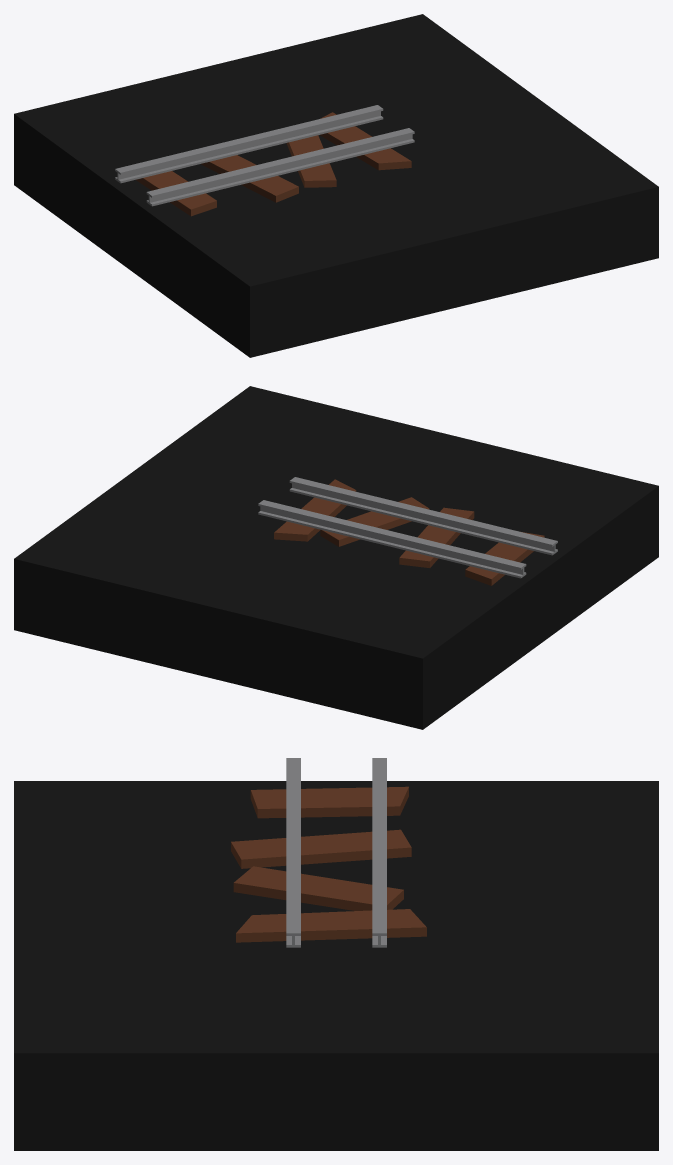
The picture shows the model from 3 angles, top to bottom: view 1: azimuth 30°, elevation 25°; view 2: azimuth 150°, elevation 25°; view 3: azimuth 270°, elevation 25°; orthographic projection. The views are drawn at different scales.
Visible parts, largest first — view 1: 1_Node_1; view 2: 1_Node_1; view 3: 1_Node_1.
Boxes of the visible parts, box(x1,y1,x2,y2) form: 1_Node_1: box(14, 14, 658, 357); 1_Node_1: box(14, 386, 658, 729); 1_Node_1: box(14, 758, 658, 1150).
Size of the model in its own units: 118 by 24.48 by 118.
